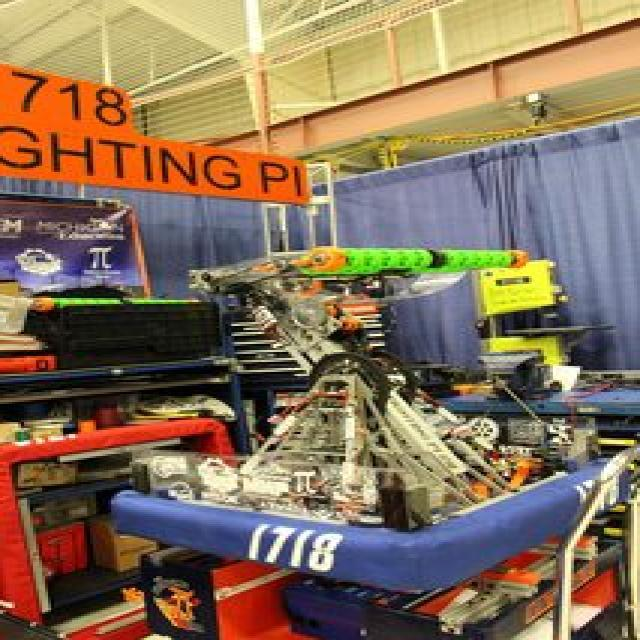robot: (99, 235, 636, 604)
